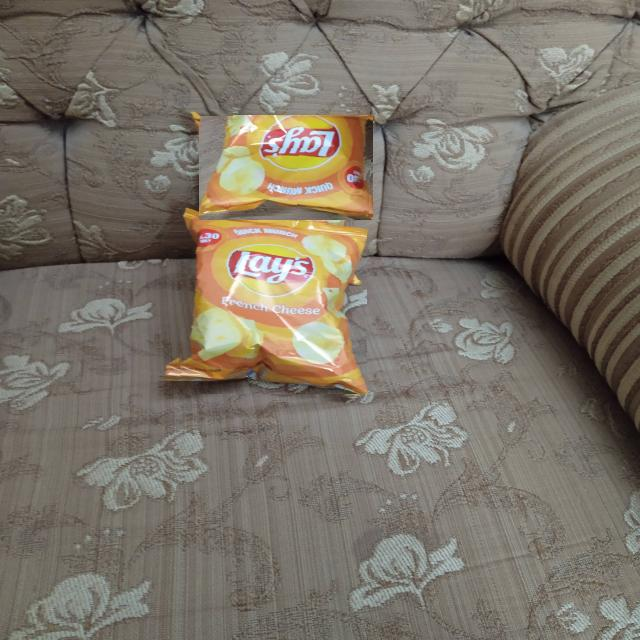Plastic: (168, 223, 367, 394), (199, 115, 373, 220)
